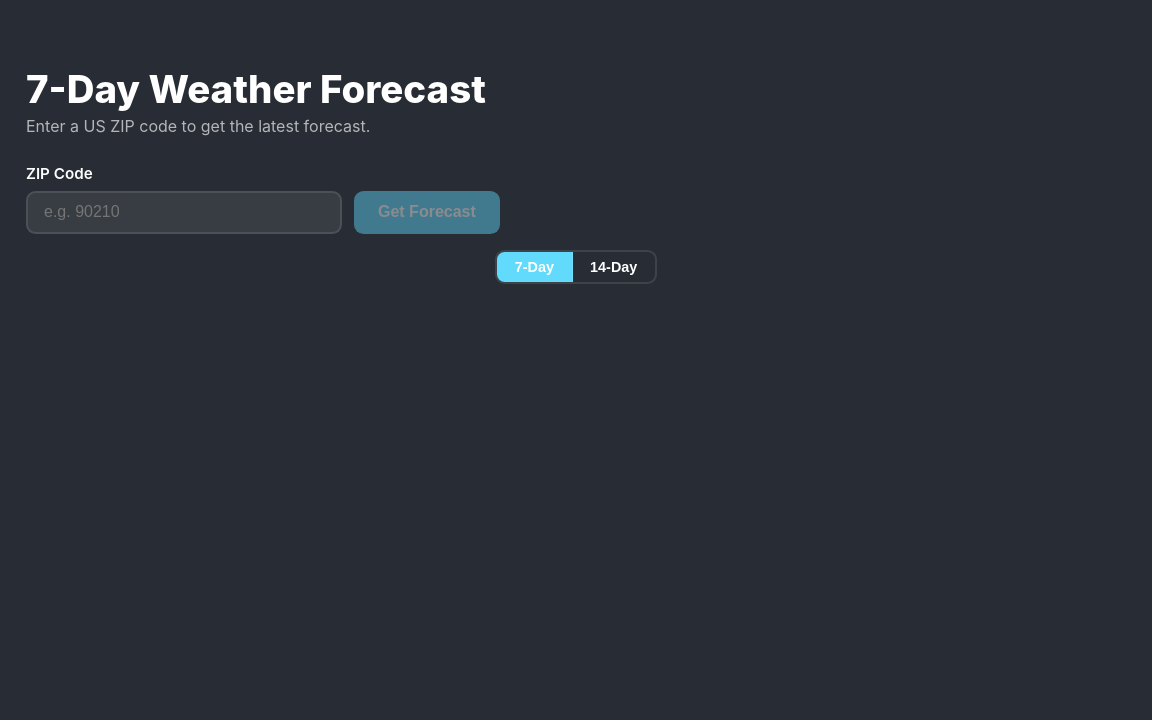
Test: WeatherPage › shows location name and 7 forecast cards after a successful 7-day search
In the field: (184, 212) [26,191,342,234], type "90210"
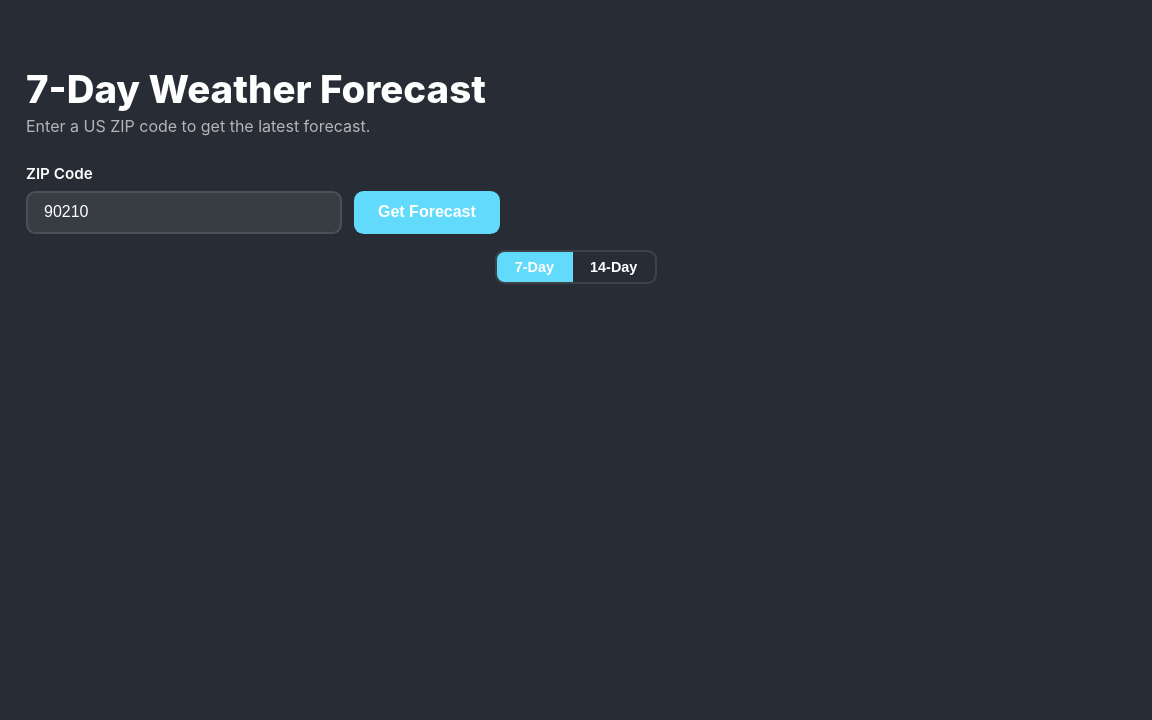
Click the button "Get Forecast": (427, 212) [354,191,500,234]
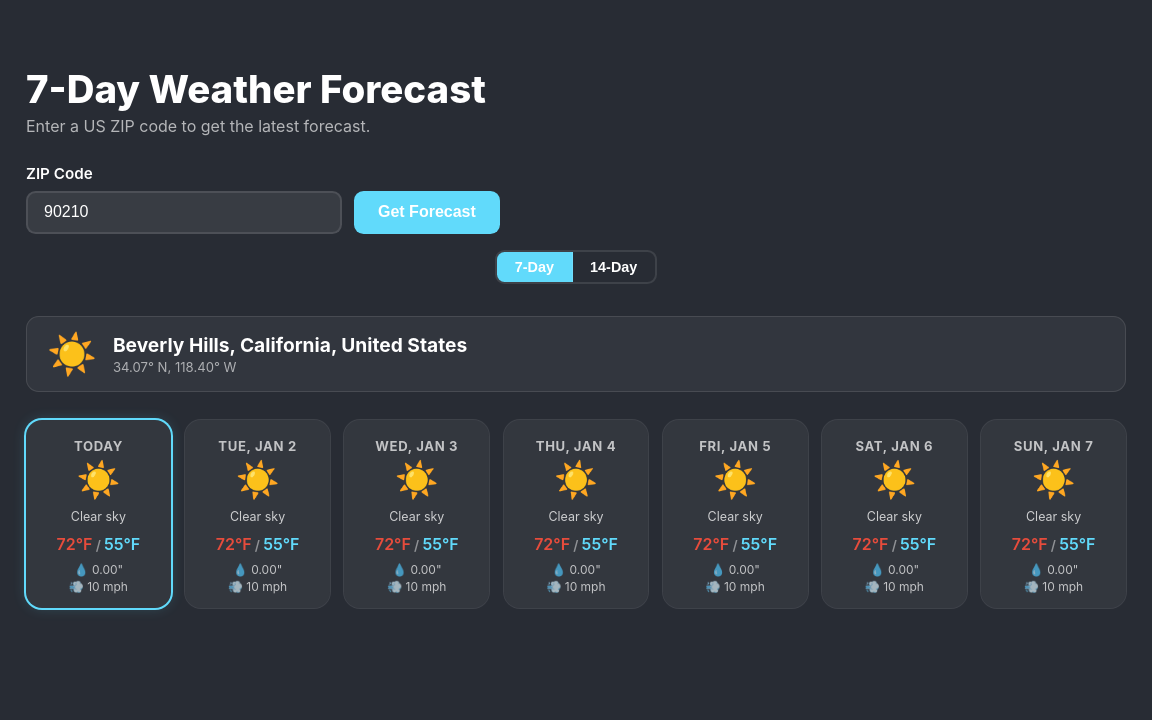
Result: the text "Beverly Hills, California, United States" is shown at [113,333,467,357]
